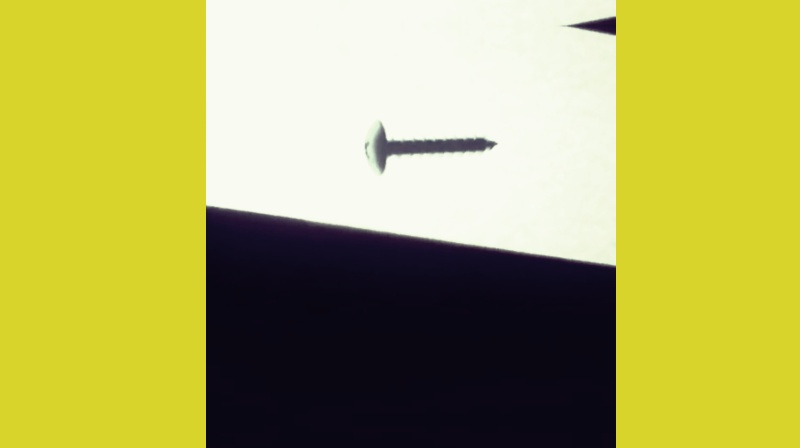S003: (358, 115, 500, 179)
